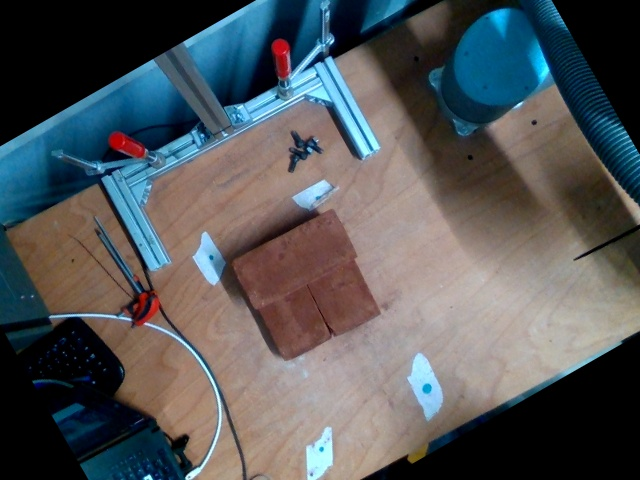brick: (232, 211, 355, 307)
